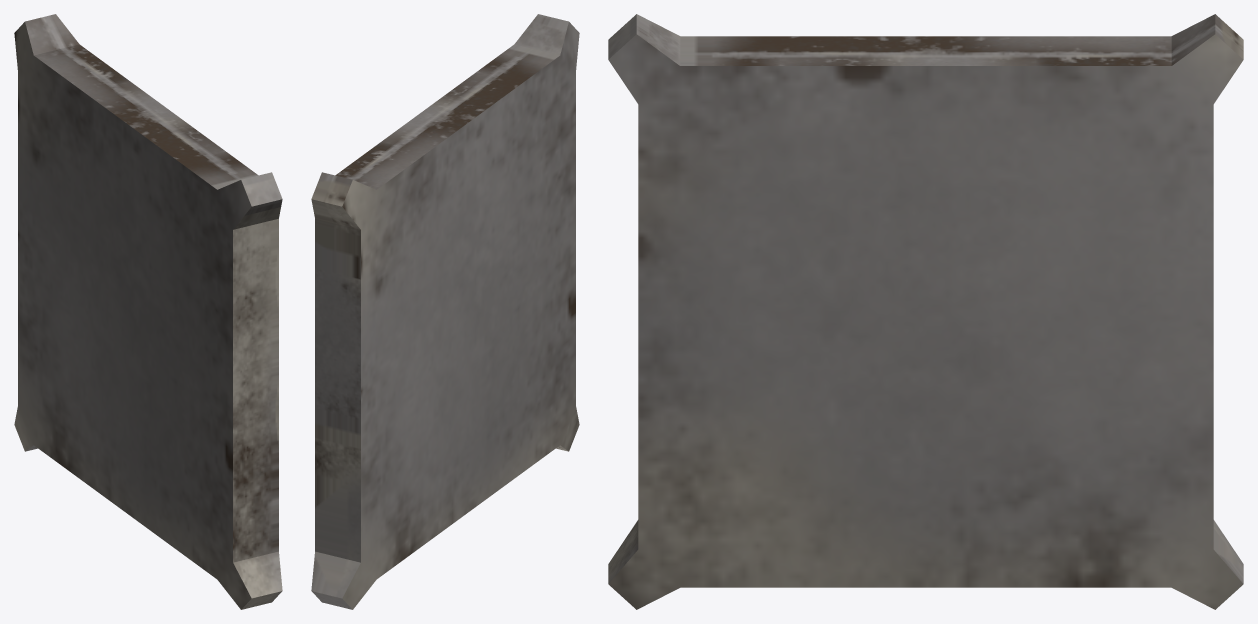
The model's file is BLD_Wall M.fbx.
3 renders of one model, left to right at view 1: azimuth 30°, elevation 25°; view 2: azimuth 150°, elevation 25°; view 3: azimuth 270°, elevation 25°, orthographic. The views are drawn at different scales.
Parts seen in each view (by area): view 1: block 2; view 2: block 2; view 3: block 2.
Part boxes in pixels (box(x1,y1,x2,y2)): block 2: box(14, 14, 282, 609); block 2: box(311, 14, 579, 609); block 2: box(608, 14, 1243, 609).
Size of the model in its own units: 27.73 by 249 by 249.
1 material, 1 textured.
